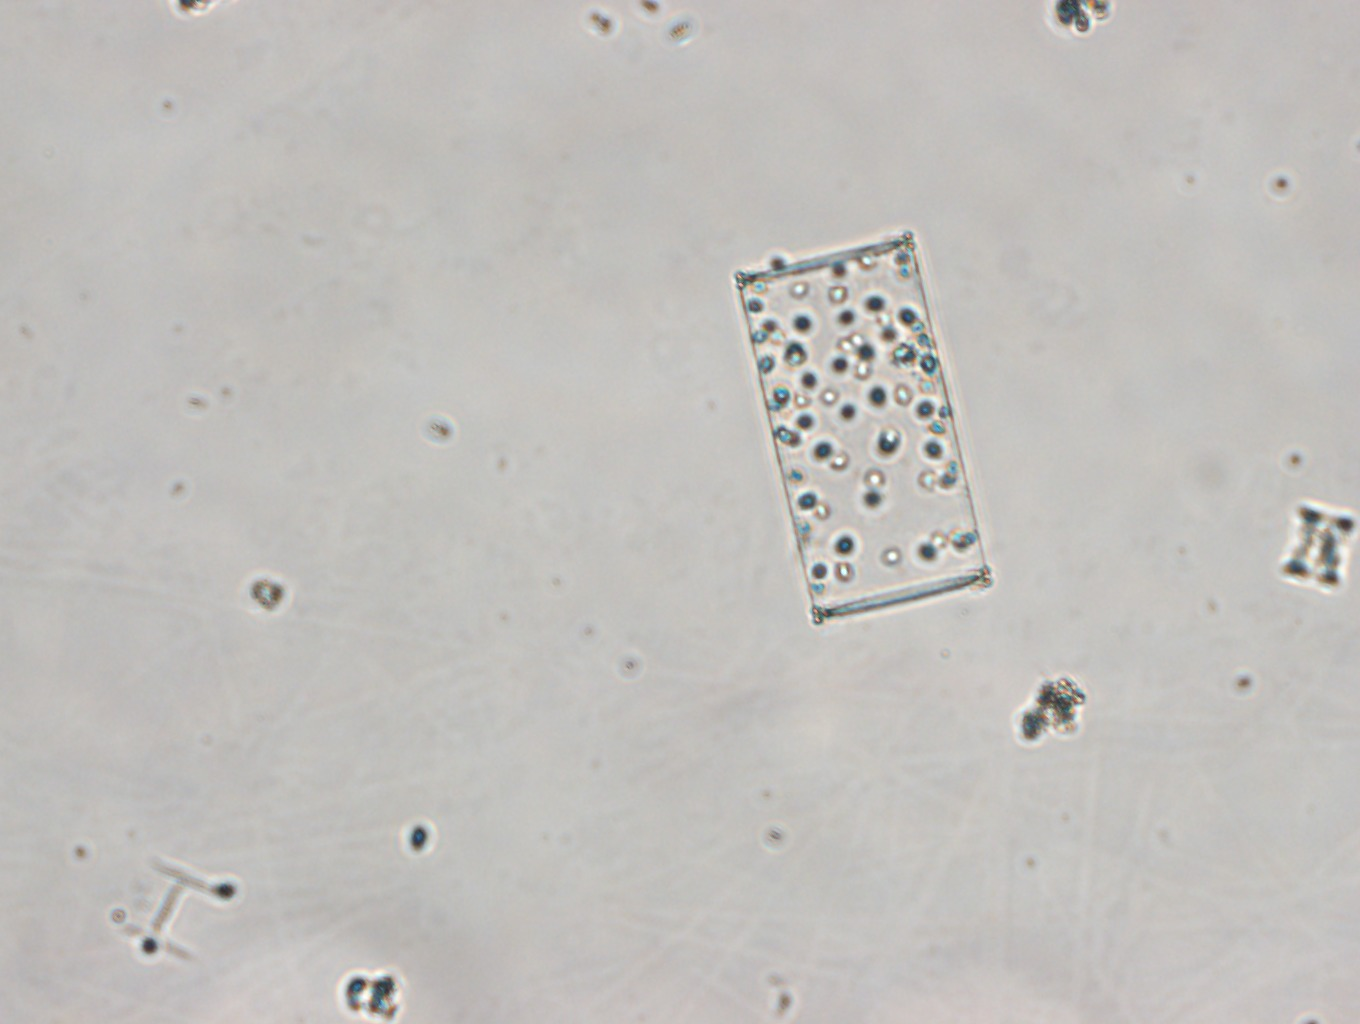guinardia flaccida: (732, 231, 993, 625)
